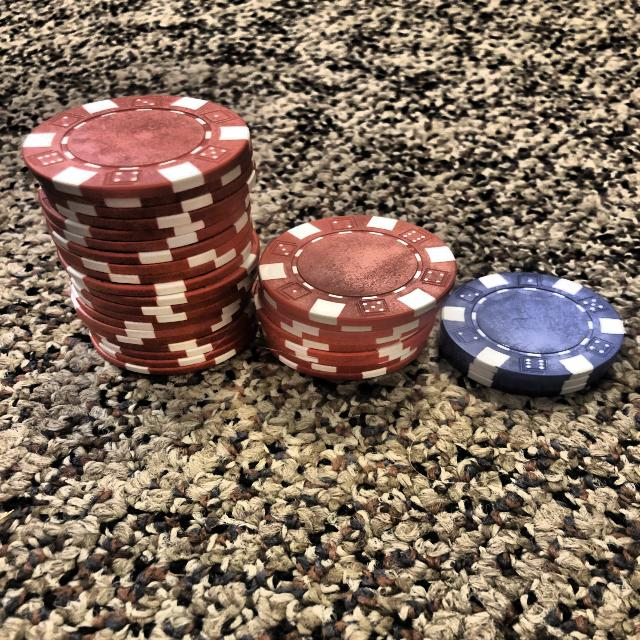Chip: (1, 74, 294, 380), (248, 184, 477, 403), (428, 242, 630, 407)
